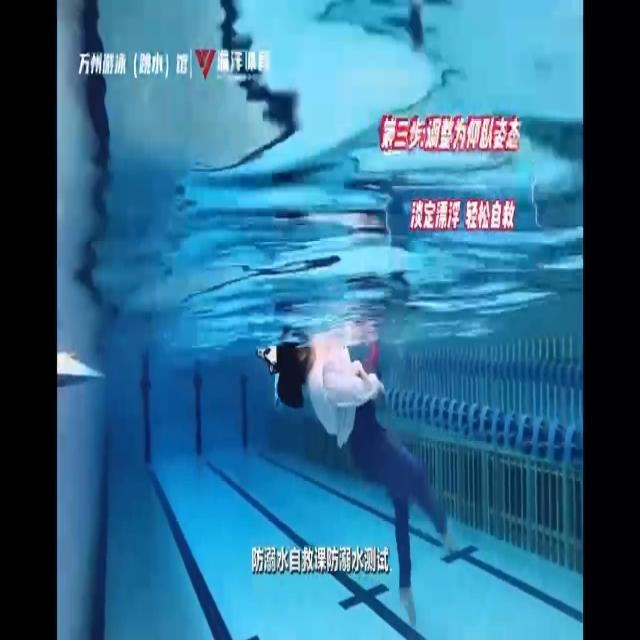Drowning: (276, 337, 476, 621)
